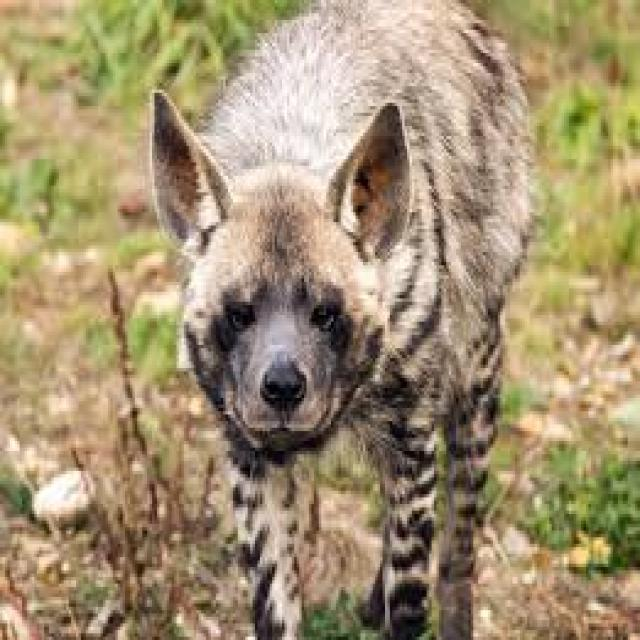Hyena: (135, 0, 527, 620)
